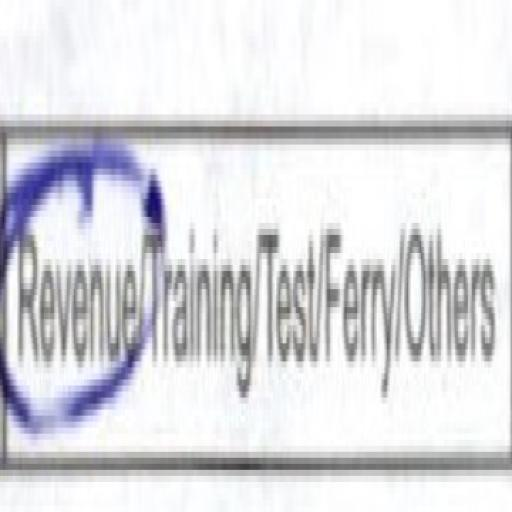check: (0, 54, 149, 512)
